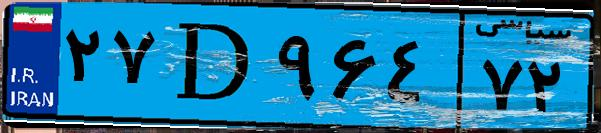2: (57, 26, 110, 100), (525, 38, 570, 115)
4: (385, 28, 445, 110)
6: (330, 28, 385, 110)
7: (475, 38, 525, 113), (110, 28, 158, 98)
9: (270, 28, 330, 110)
D: (158, 12, 270, 120)
